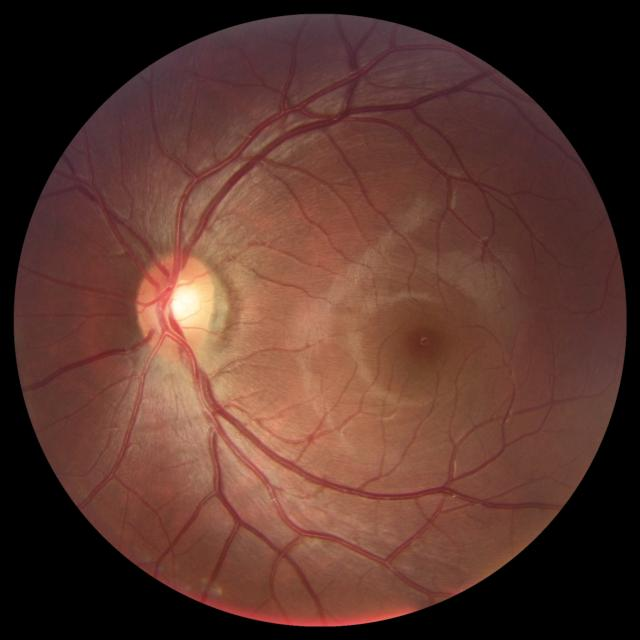OC: (158, 281, 200, 325)
OD: (134, 252, 218, 356)
